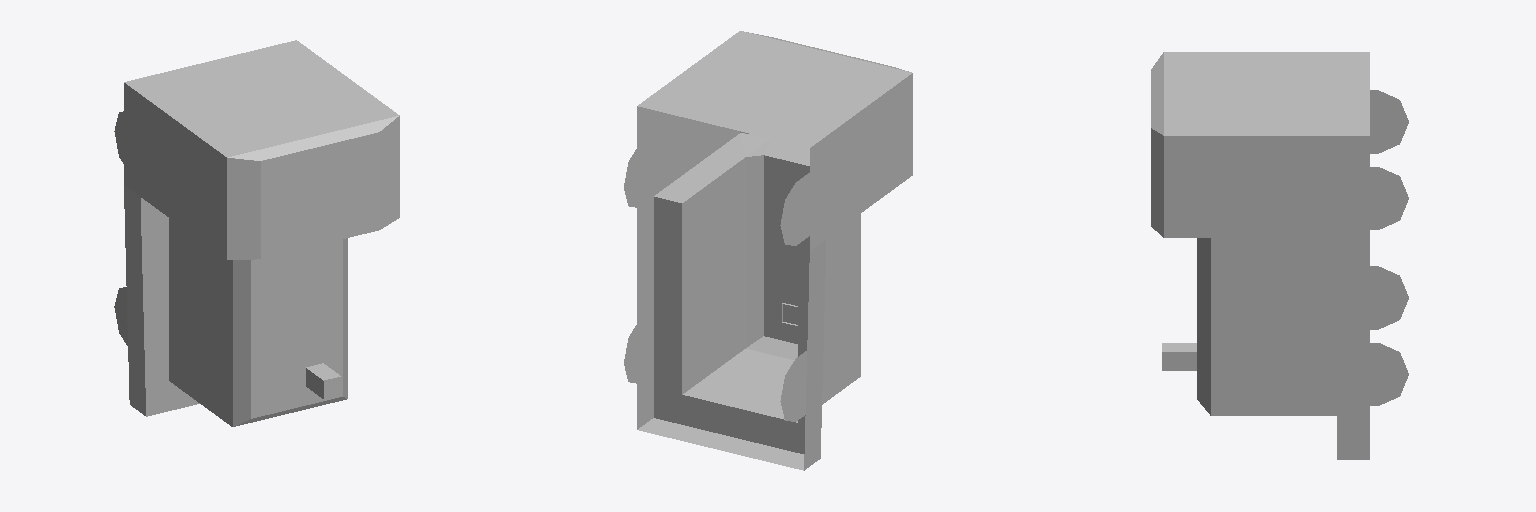
Rendered from shunter.obj.
3 views of the same model, side by side, from view 1: azimuth 30°, elevation 25°; view 2: azimuth 150°, elevation 25°; view 3: azimuth 270°, elevation 25° (orthographic).
Parts seen in each view (by area): view 1: Cube; view 2: Cube; view 3: Cube.
Boxes of the visible parts, x1,y1,x2,y2 form: Cube: [114, 40, 399, 426]; Cube: [624, 31, 912, 470]; Cube: [1151, 52, 1408, 459].
Size of the model in its own units: 3.04 by 5.37 by 3.89.